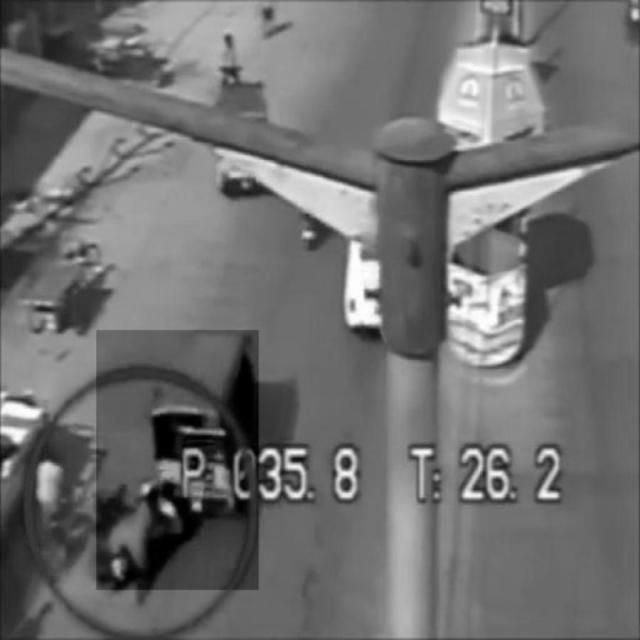accident: (97, 330, 259, 590)
